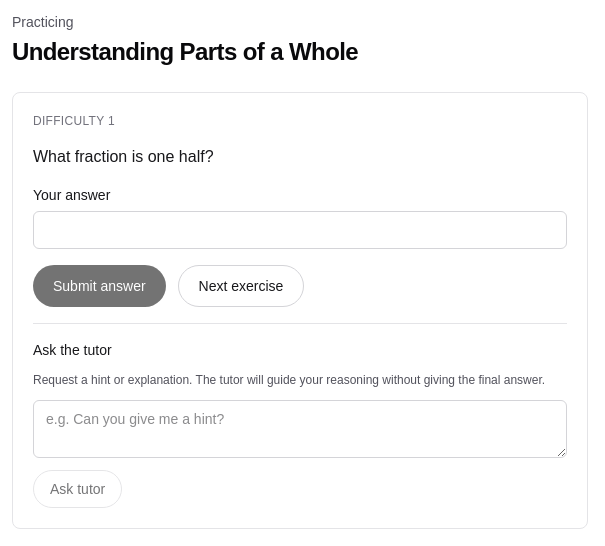
Test: PracticeSession › fetches the next exercise when Next exercise is clicked
This screenshot has width=605, height=546.
Click the button "Next exercise" at {"x": 241, "y": 286}, box [178, 265, 304, 307]
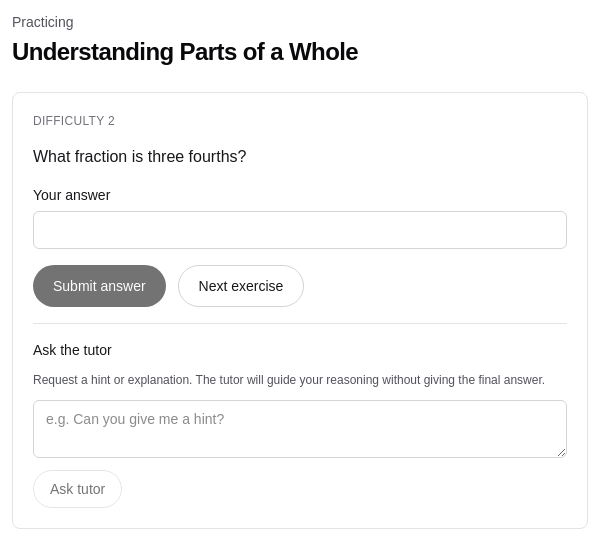
expect the text "What fraction is three fourths?" is shown: met, box [33, 148, 246, 165]
